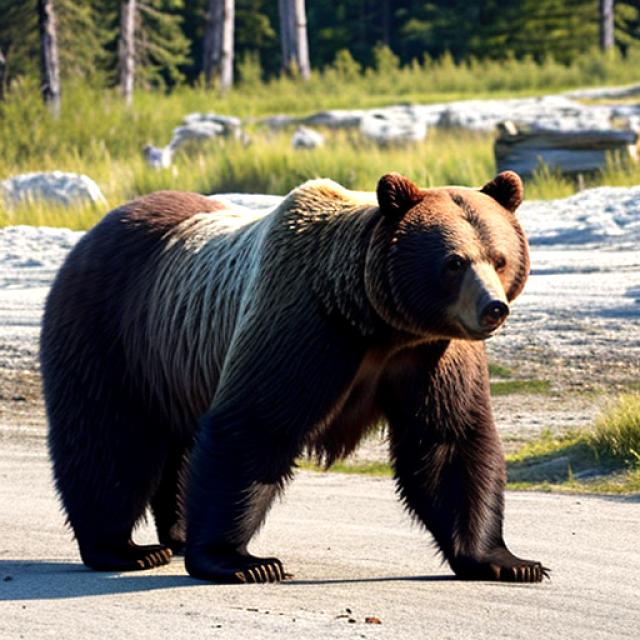bear: (346, 168, 559, 344)
